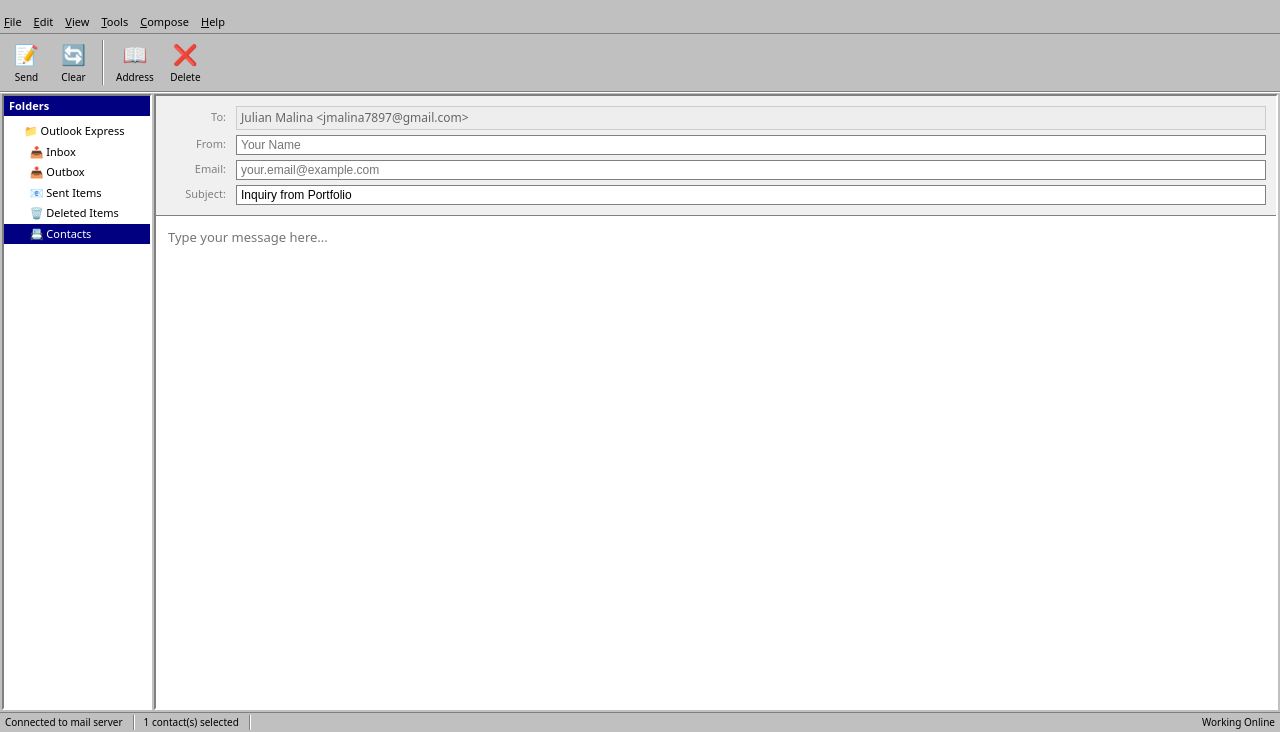
Contact App › updates status on send
This screenshot has width=1280, height=732.
Click the text "Send".
click(27, 76)  # box x1=15 y1=70 x2=38 y2=84
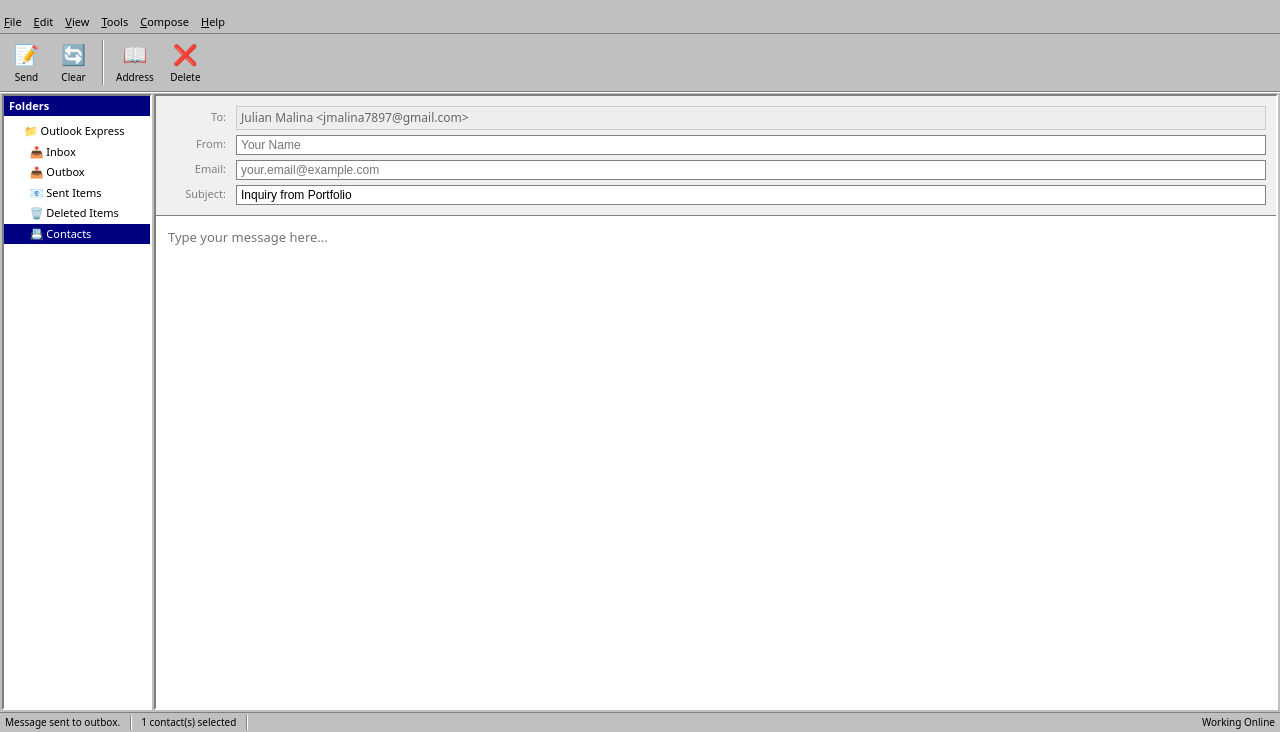
Expected: the text "Message sent to outbox." is shown, x1=5 y1=715 x2=131 y2=730
